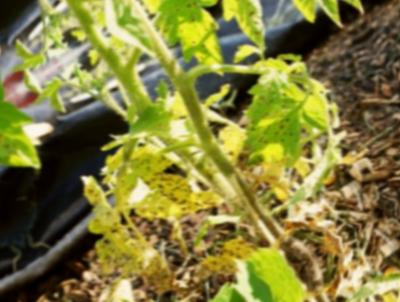Tomato Septoria leaf spot: (210, 54, 350, 188), (60, 168, 193, 302), (110, 133, 229, 254), (149, 0, 243, 77), (199, 0, 299, 55)
